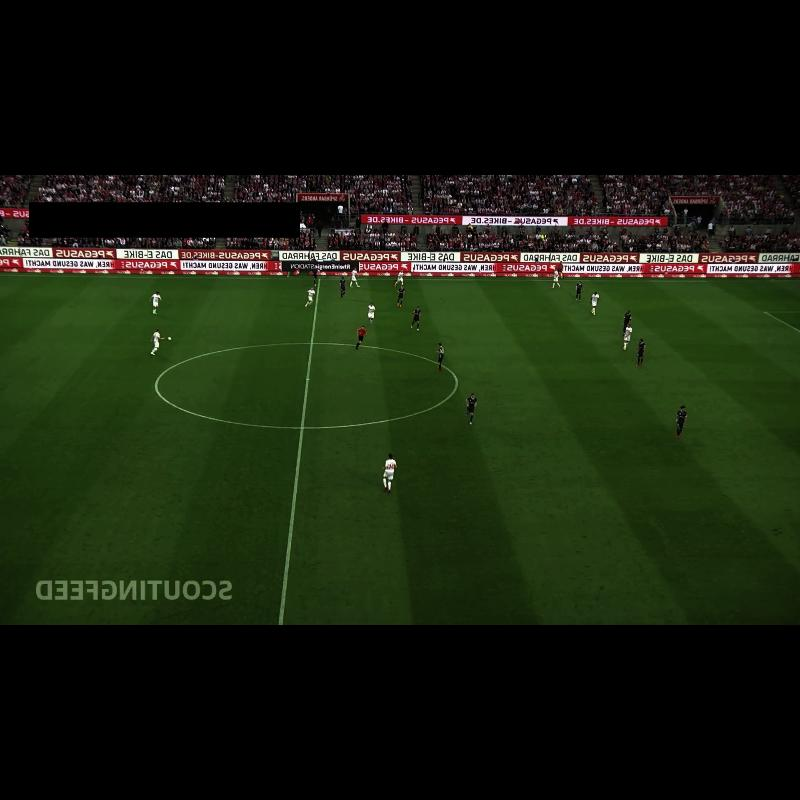cross_recipient_zone: (765, 312, 800, 331)
crossing_player_zone: (595, 281, 800, 313), (0, 275, 97, 314)
pitch: (0, 275, 800, 625)
